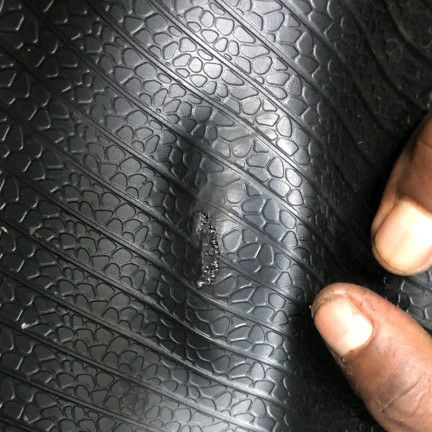CBU: (155, 111, 284, 378)
